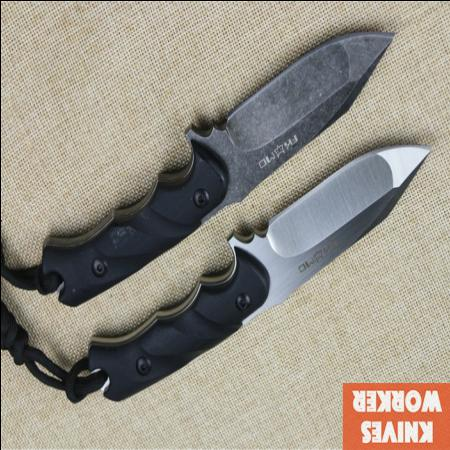long weapon: (242, 134, 438, 302), (212, 28, 398, 180)
